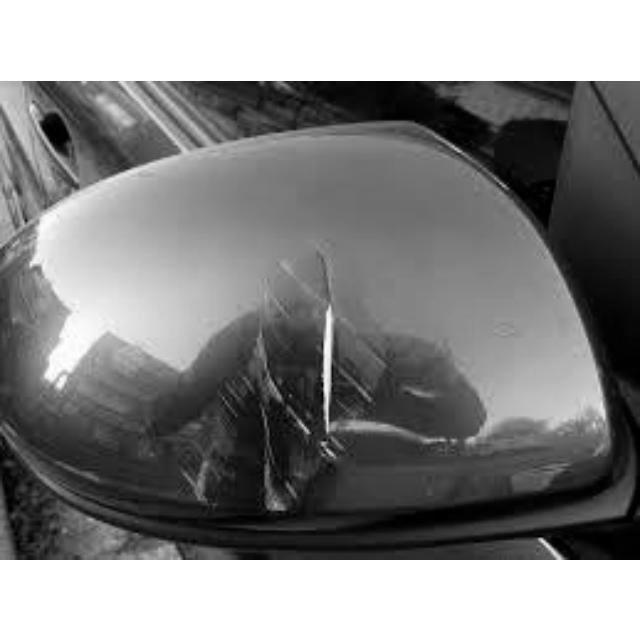Sidemirror-Damage: (33, 81, 635, 548)
